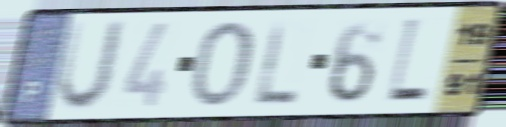4: (120, 19, 170, 113)
6: (326, 17, 386, 106)
L: (382, 13, 432, 108), (253, 18, 301, 109)
O: (188, 18, 256, 110)
U: (51, 17, 131, 115)
